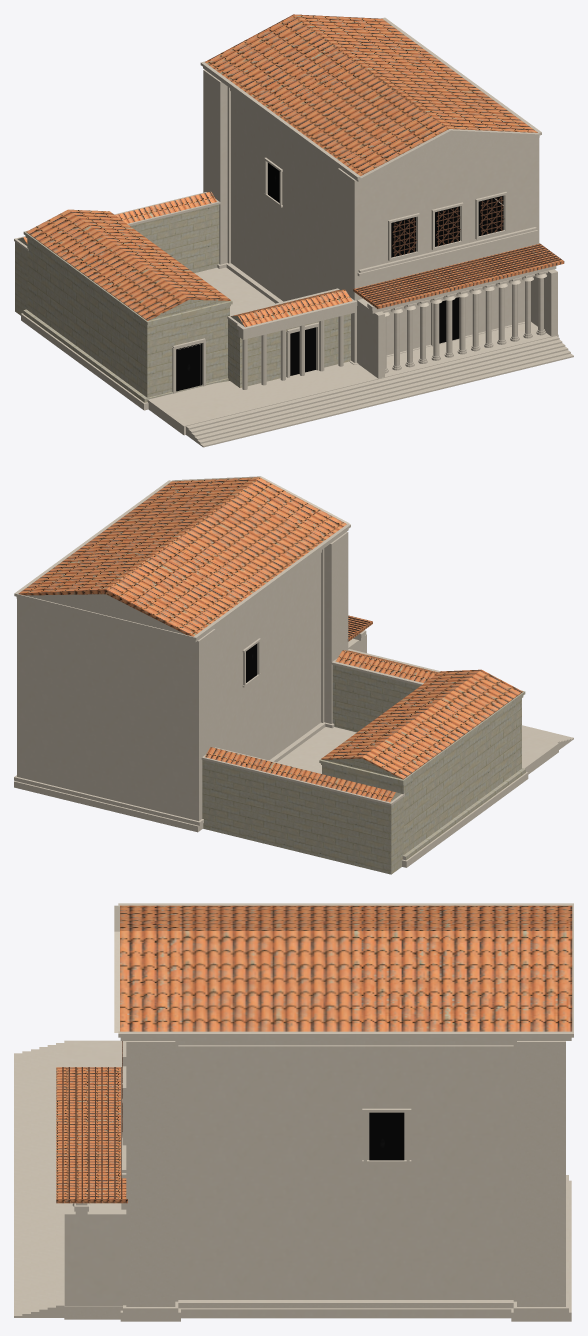
Rendered from CuriaLulia.fbx.
3 renders of one model, top to bottom at view 1: azimuth 30°, elevation 25°; view 2: azimuth 150°, elevation 25°; view 3: azimuth 270°, elevation 25°, orthographic. The views are drawn at different scales.
Visible parts, largest first — view 1: Curia_Iulia; view 2: Curia_Iulia; view 3: Curia_Iulia.
Boxes of the visible parts, x1,y1,x2,y2 form: Curia_Iulia: (14,14,573,447); Curia_Iulia: (14,476,573,874); Curia_Iulia: (14,903,573,1321).
Bounding box in the file's own units: 39.45 × 22.02 × 34.41.
